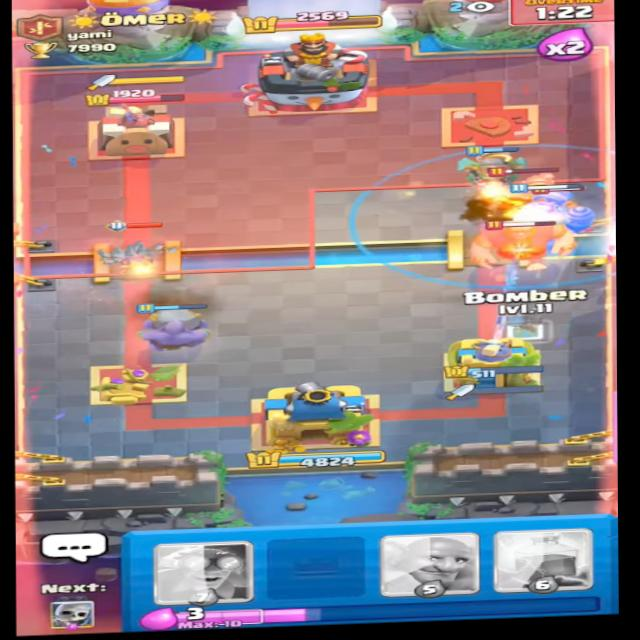evo-wizard: (103, 229, 191, 295)
giant: (460, 214, 587, 273)
